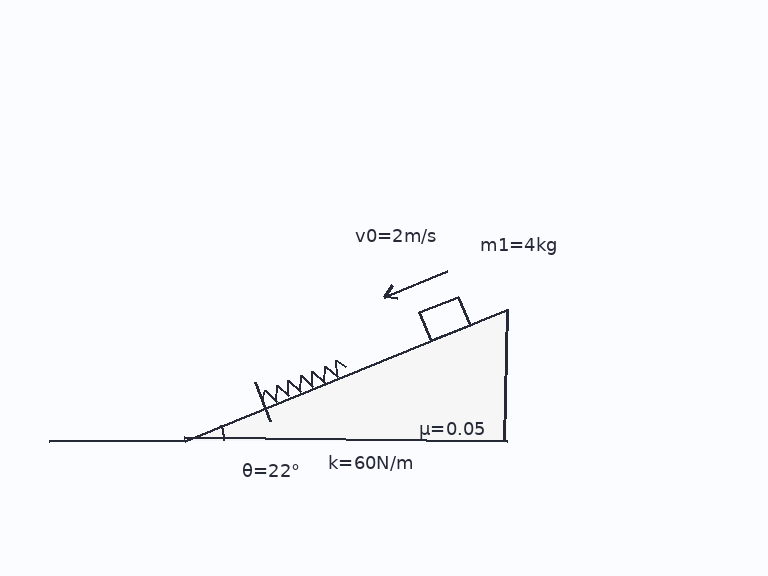block: (417, 294, 472, 342)
ramp: (182, 308, 509, 442)
spring: (259, 359, 347, 403)
